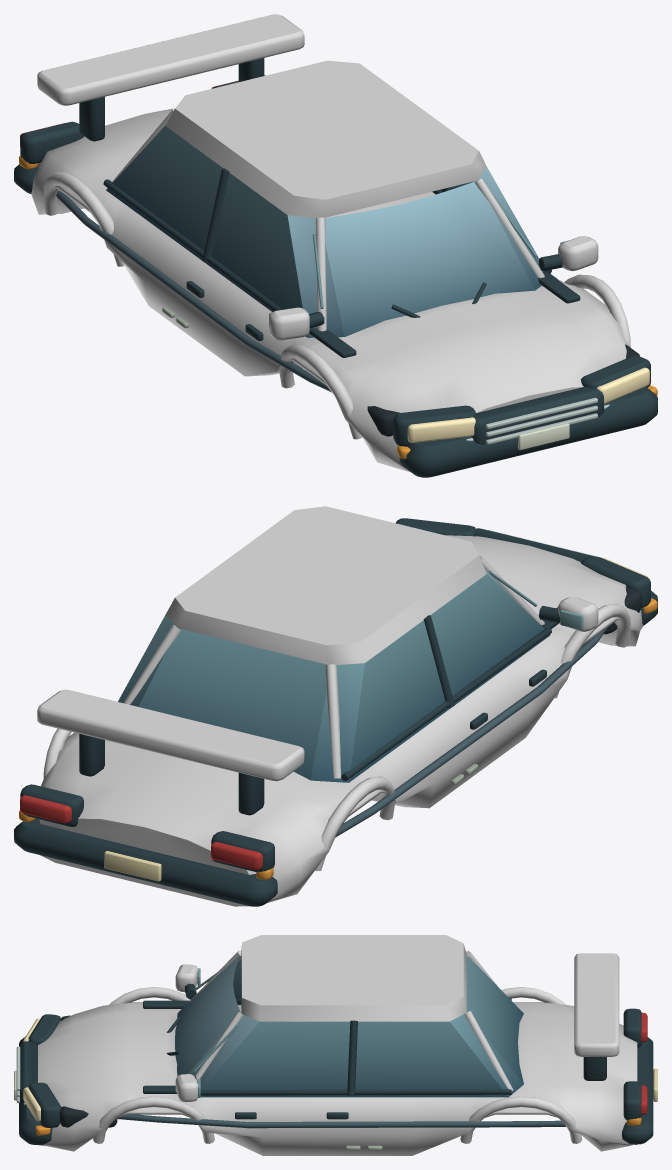
File: vela.glb
3 renders of one model, top to bottom at view 1: azimuth 30°, elevation 25°; view 2: azimuth 150°, elevation 25°; view 3: azimuth 270°, elevation 25°, orthographic. The views are drawn at different scales.
Parts seen in each view (by area): view 1: Chassis, Headlamps; view 2: Chassis, BrakeLamps; view 3: Chassis, Headlamps, BrakeLamps.
Part boxes in pixels (x1,y1,x2,y2): Chassis: (14,14,657,477); Headlamps: (407,367,649,442); Chassis: (14,506,657,906); BrakeLamps: (20,795,262,870); Chassis: (14,935,657,1155); Headlamps: (23,1018,40,1121); BrakeLamps: (641,1012,647,1114).
Bounding box in the file's own units: 1.87 × 0.9659 × 4.14.
